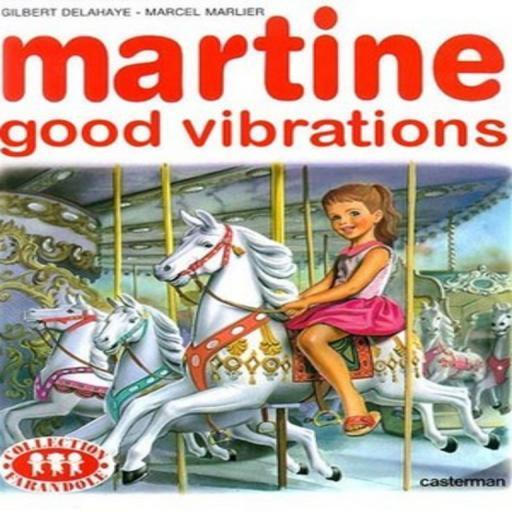horse: (0, 209, 511, 491)
